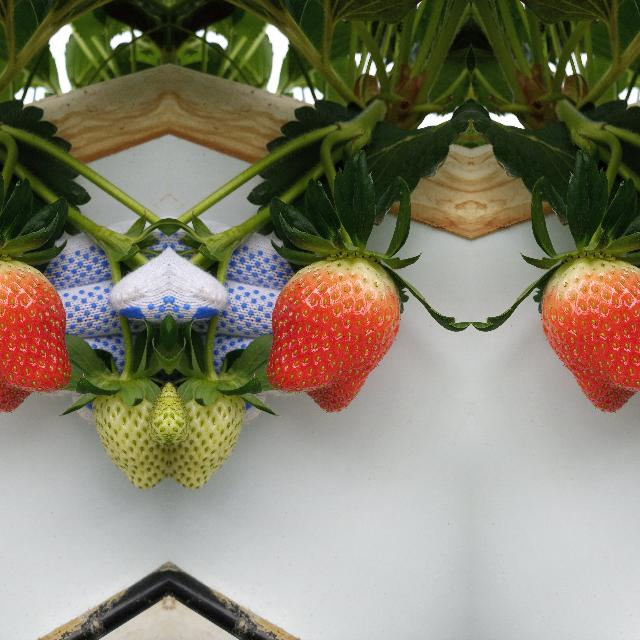Health_100: (264, 258, 400, 412), (541, 258, 640, 412), (0, 258, 71, 412)
Health_25: (168, 371, 244, 495), (92, 371, 168, 495)
